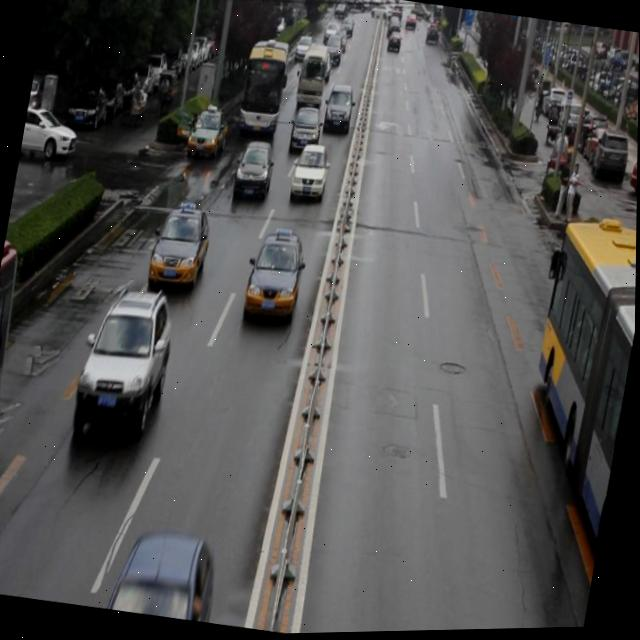car: (71, 279, 179, 446), (96, 525, 223, 625), (147, 199, 213, 295), (242, 228, 307, 325), (230, 136, 277, 204), (185, 107, 231, 168), (288, 144, 329, 200), (288, 103, 324, 157), (323, 84, 356, 134)
truck: (293, 43, 331, 113)
van: (500, 212, 637, 591), (0, 238, 31, 523), (236, 38, 292, 140)
